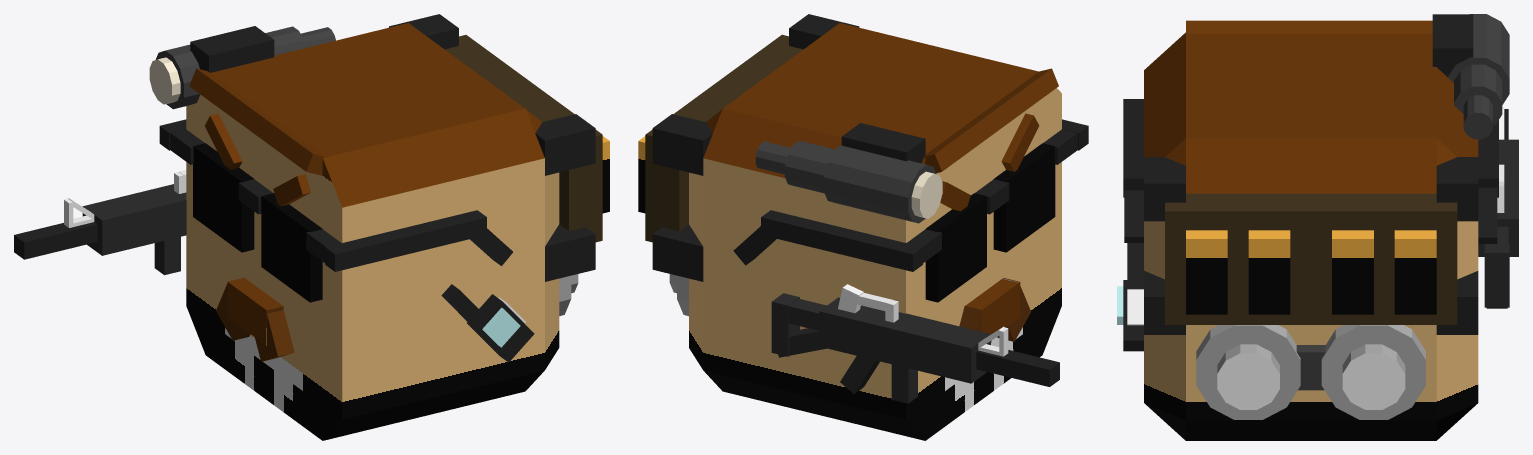
File: playerHoldingar.gltf
The picture shows the model from 3 angles, left to right: view 1: azimuth 30°, elevation 25°; view 2: azimuth 150°, elevation 25°; view 3: azimuth 270°, elevation 25°; orthographic projection. The views are drawn at different scales.
Parts seen in each view (by area): view 1: beveled_cuboid; view 2: beveled_cuboid; view 3: beveled_cuboid.
Part boxes in pixels (x1,y1,x2,y2): beveled_cuboid: [14, 14, 609, 440]; beveled_cuboid: [638, 14, 1088, 440]; beveled_cuboid: [1117, 14, 1518, 440].
Size of the model in its own units: 1.65 by 1.06 by 1.2.
4 materials, 4 textured.
